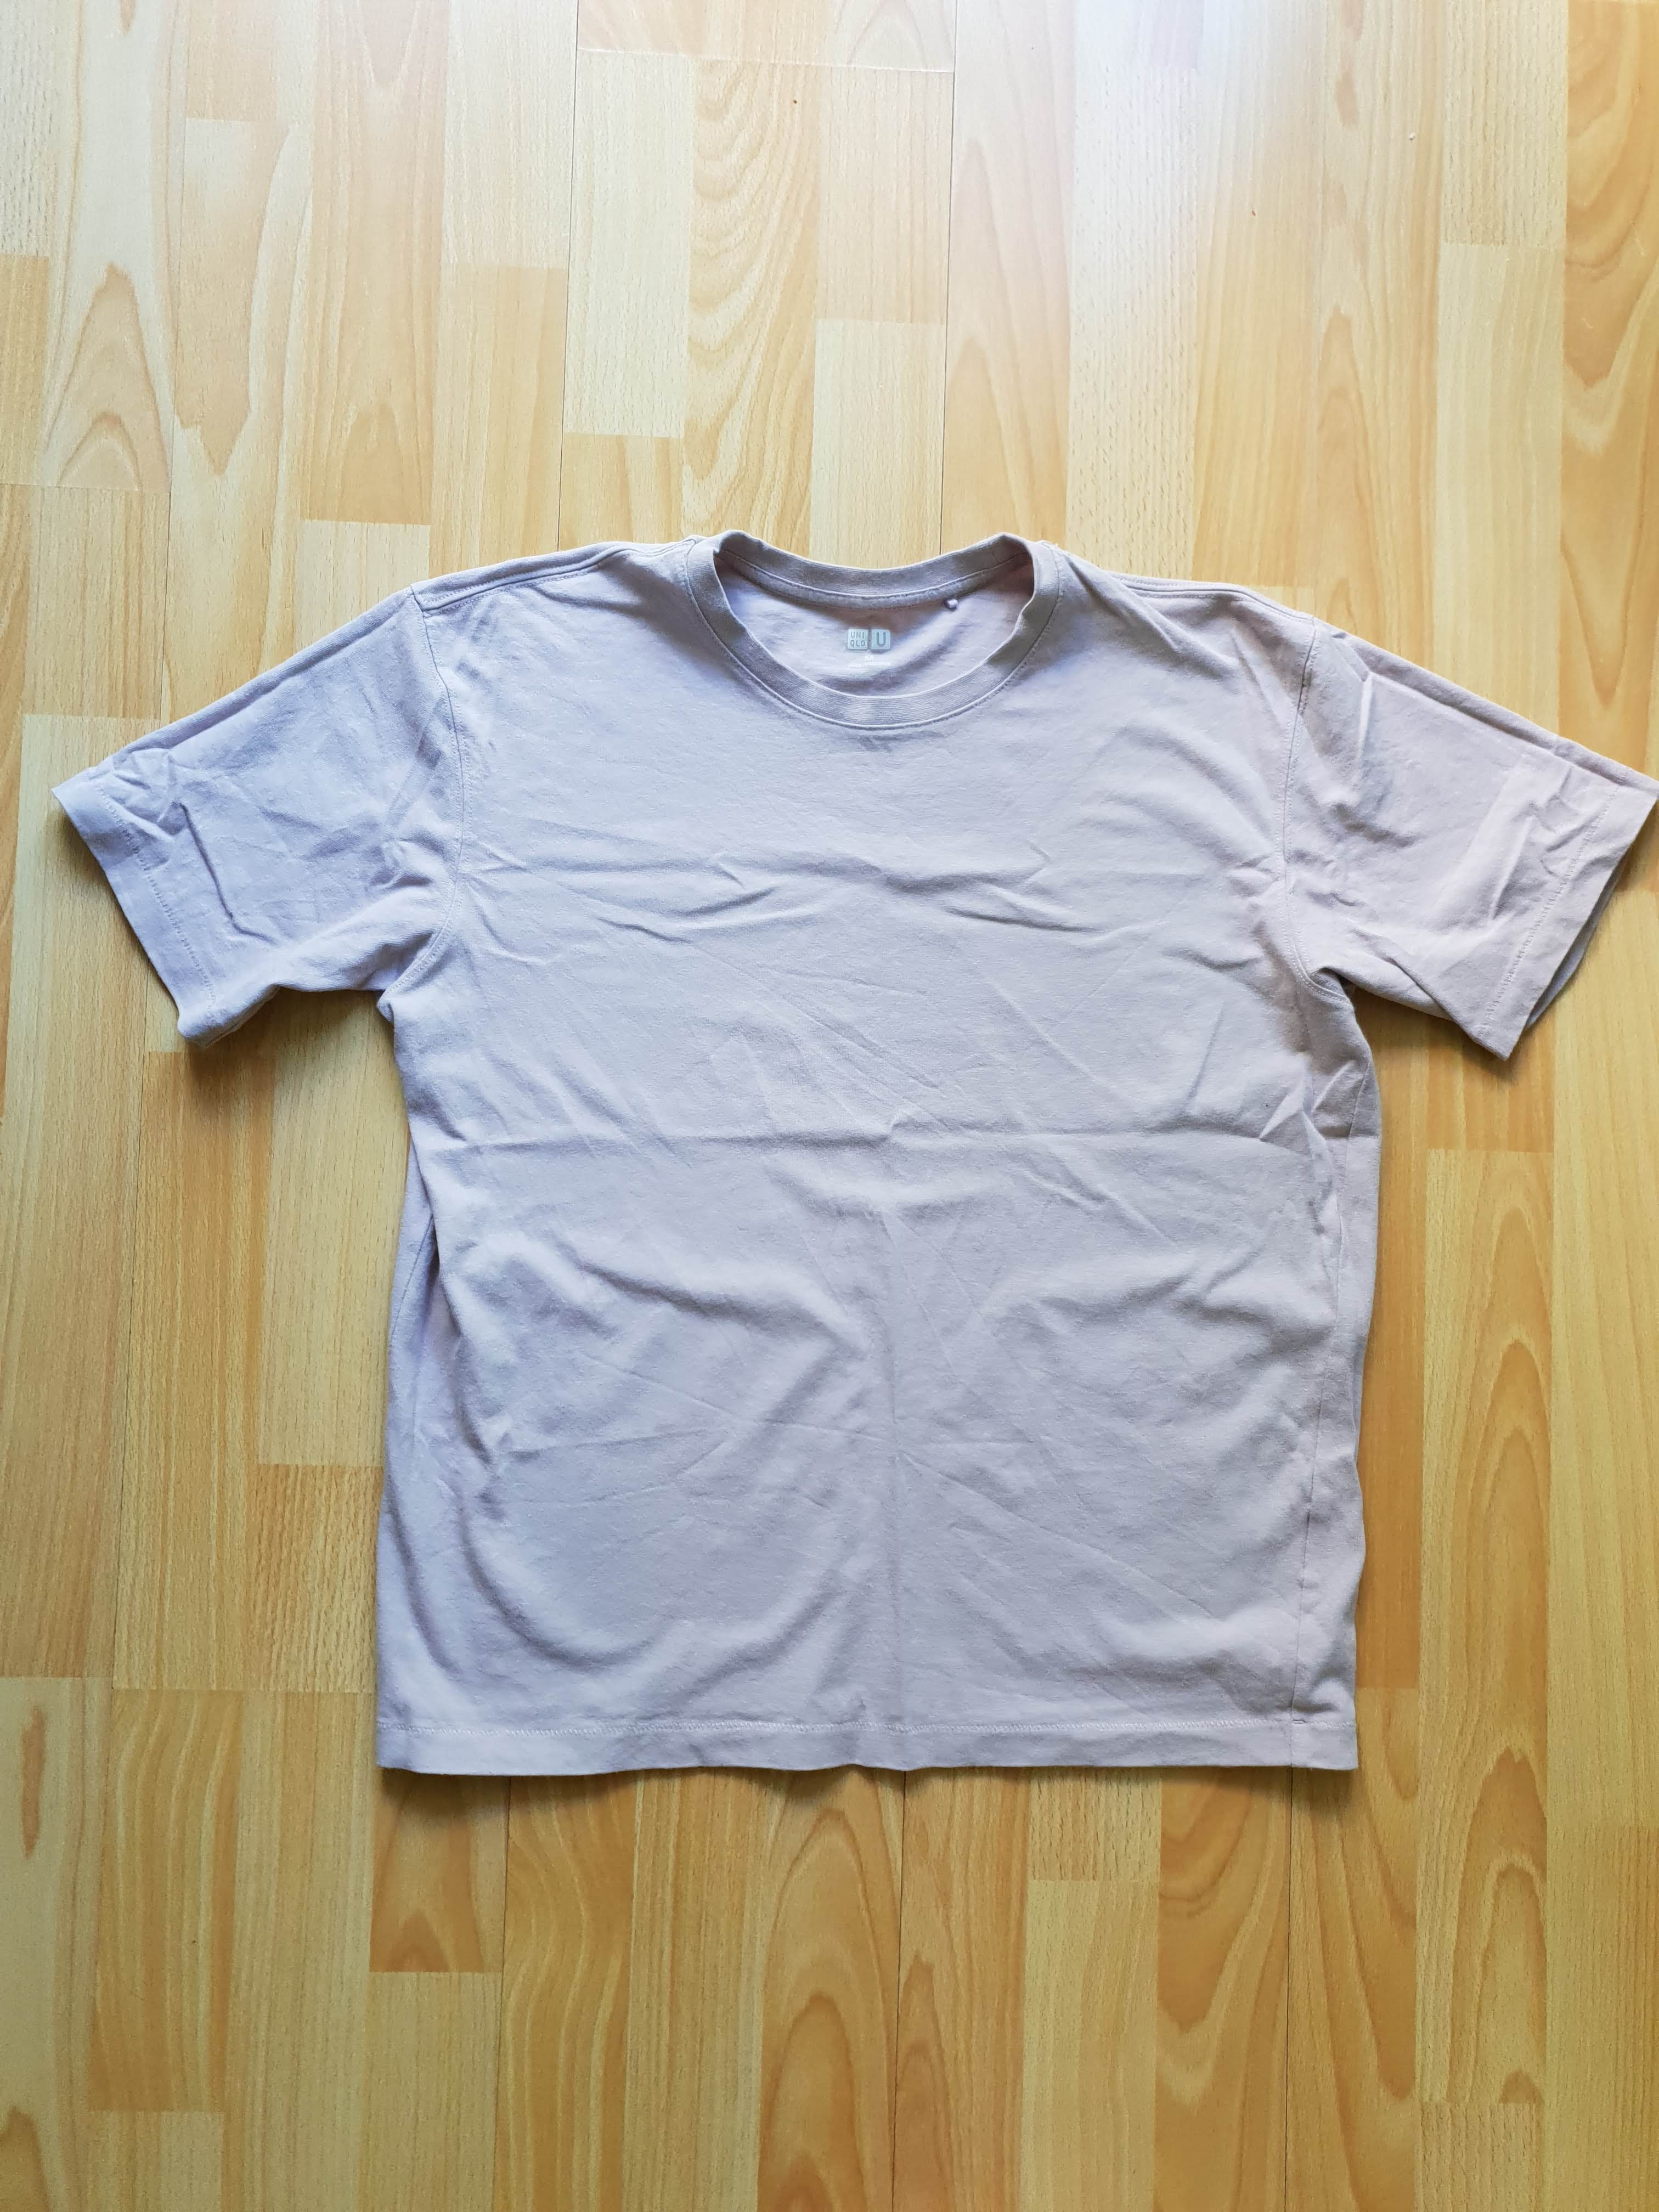clothes: (38, 533, 1659, 1771)
